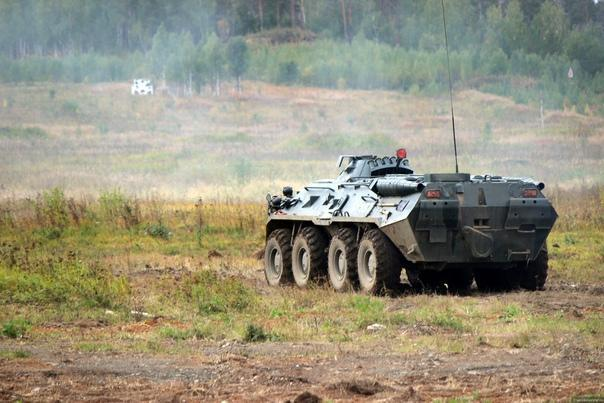tank: (262, 147, 560, 297)
